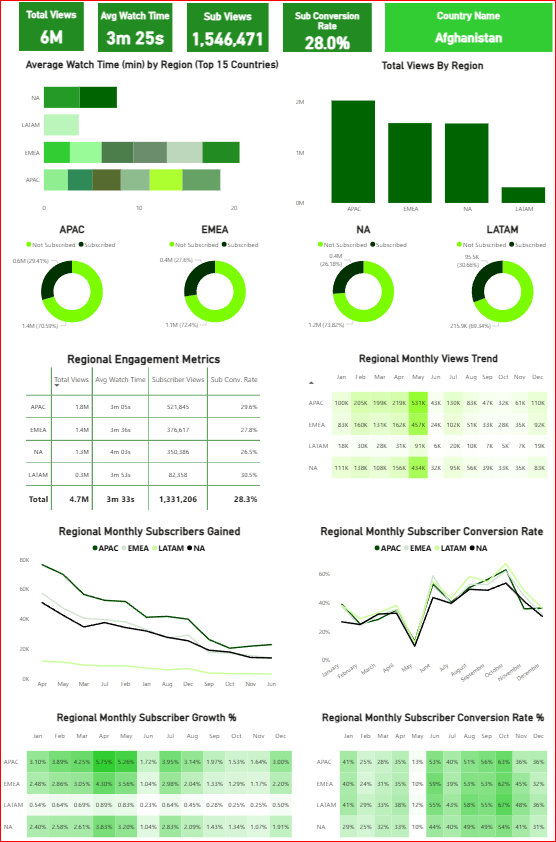

What the dashboard file says about the page in this screenshot:
{"tool":"powerbi","page":{"name":"Dashboard","canvas":[1160,1760],"ordinal":0},"visuals":[{"type":"card","title":"Country Name","fields":{"Values":["Min(Country_Lookup.country_name)"]},"box":[805,6.2,348.8,102],"z":0},{"type":"lineChart","title":"Regional Monthly Subscribers Gained","fields":{"Series":["Country_Lookup.region"],"Category":["Calendar_Lookup.Month Short"],"Y":["Measure Table.Region Subscribers Gained"]},"box":[38,1094.4,552.5,350],"z":0},{"type":"card","title":"Total Views","fields":{"Values":["Measure Table.Total Views"]},"box":[42.5,5,135,102],"z":1000},{"type":"pivotTable","title":"Regional Monthly Subscriber Growth %","fields":{"Rows":["Country_Lookup.region"],"Values":["Measure Table.Region Subscribers Gained"],"Columns":["Calendar_Lookup.Month Short"]},"box":[0.5,1481.9,615,282.5],"z":1000},{"type":"card","title":"Sub Conversion Rate","fields":{"Values":["Measure Table.Subscriber Conversion Rate (%)"]},"box":[590.6,5.3,185,102],"z":2000},{"type":"tableEx","title":"Regional Engagement Metrics","fields":{"Values":["Country_Lookup.region","Measure Table.Total Views","Measure Table.Readable Avg Watch Time","Measure Table.Subscriber Views","Measure Table.Subscriber Conversion Rate Display"]},"box":[49,733.3,502.9,335.7],"z":2000},{"type":"lineChart","title":"Regional Monthly Subscriber Conversion Rate","fields":{"Series":["Country_Lookup.region"],"Y":["Measure Table.Regional Subscriber Conversion Rate"],"Category":["Calendar_Lookup.Date.Variation.Date Hierarchy.Month"]},"box":[653,1094.4,500,350],"z":2000},{"type":"card","title":"Sub Views","fields":{"Values":["Measure Table.Subscriber Views"]},"box":[391.2,5.6,170,102],"z":3000},{"type":"pivotTable","title":"Regional Monthly Views Trend","fields":{"Rows":["Country_Lookup.region"],"Columns":["Calendar_Lookup.Month Short"],"Values":["Measure Table.Total Views"]},"box":[634.8,733.3,518.6,278.6],"z":3000},{"type":"pivotTable","title":"Regional Monthly Subscriber Conversion Rate %","fields":{"Rows":["Country_Lookup.region"],"Columns":["Calendar_Lookup.Month Short"],"Values":["Measure Table.Regional Subscriber Conversion Rate"]},"box":[651.9,1480.8,505,273.8],"z":3000},{"type":"card","title":"Avg Watch Time","fields":{"Values":["Measure Table.Readable Avg Watch Time"]},"box":[206.9,5.9,155,102],"z":4000},{"type":"barChart","title":"Average Watch Time (min) by Region (Top 15 Countries)","fields":{"Category":["Country_Lookup.region"],"Y":["Measure Table.Avg Watch Time (min)"],"Series":["Country_Lookup.country_name"]},"box":[37.5,120.8,562.7,329.9],"z":5000},{"type":"columnChart","title":"Total Views By Region","fields":{"Category":["Country_Lookup.region"],"Y":["Measure Table.Total Views"]},"box":[613.1,123.7,581.5,329.9],"z":6000},{"type":"donutChart","title":"APAC","fields":{"Y":["Measure Table.Total Views"],"Series":["Country_Lookup.region"],"Category":["Video_Stats.Subscriber Status"]},"box":[0,464.9,304.1,232.9],"z":7000},{"type":"donutChart","title":"EMEA","fields":{"Y":["Measure Table.Total Views"],"Series":["Country_Lookup.region"],"Category":["Video_Stats.Subscriber Status"]},"box":[300.1,464.5,300.1,232.9],"z":8000},{"type":"donutChart","title":"LATAM","fields":{"Y":["Measure Table.Total Views"],"Series":["Country_Lookup.region"],"Category":["Video_Stats.Subscriber Status"]},"box":[897.7,464.5,302.8,232.9],"z":9000},{"type":"donutChart","title":"NA","fields":{"Y":["Measure Table.Total Views"],"Series":["Country_Lookup.region"],"Category":["Video_Stats.Subscriber Status"]},"box":[613.6,464.5,289.4,232.9],"z":10000}]}

Visuals, with their boxes in screenshot pixels (x1, y1, x2, y2), scaled from the page's 1160x1760 canvas onto the 556x842 screenshot:
"Country Name" card: 386,3,553,52
"Regional Monthly Subscribers Gained" lineChart: 18,524,283,691
"Total Views" card: 20,2,85,51
"Regional Monthly Subscriber Growth %" pivotTable: 0,709,295,841
"Sub Conversion Rate" card: 283,3,372,51
"Regional Engagement Metrics" tableEx: 23,351,265,511
"Regional Monthly Subscriber Conversion Rate" lineChart: 313,524,553,691
"Sub Views" card: 188,3,269,51
"Regional Monthly Views Trend" pivotTable: 304,351,553,484
"Regional Monthly Subscriber Conversion Rate %" pivotTable: 312,708,555,839
"Avg Watch Time" card: 99,3,173,52
"Average Watch Time (min) by Region (Top 15 Countries)" barChart: 18,58,288,216
"Total Views By Region" columnChart: 294,59,555,217
"APAC" donutChart: 0,222,146,334
"EMEA" donutChart: 144,222,288,334
"LATAM" donutChart: 430,222,555,334
"NA" donutChart: 294,222,433,334
